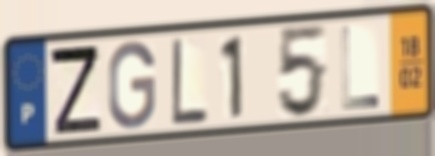1: (218, 32, 248, 122)
5: (274, 22, 330, 120)
G: (106, 38, 158, 132)
L: (338, 23, 382, 113), (170, 34, 210, 126)
Z: (46, 43, 104, 137)
